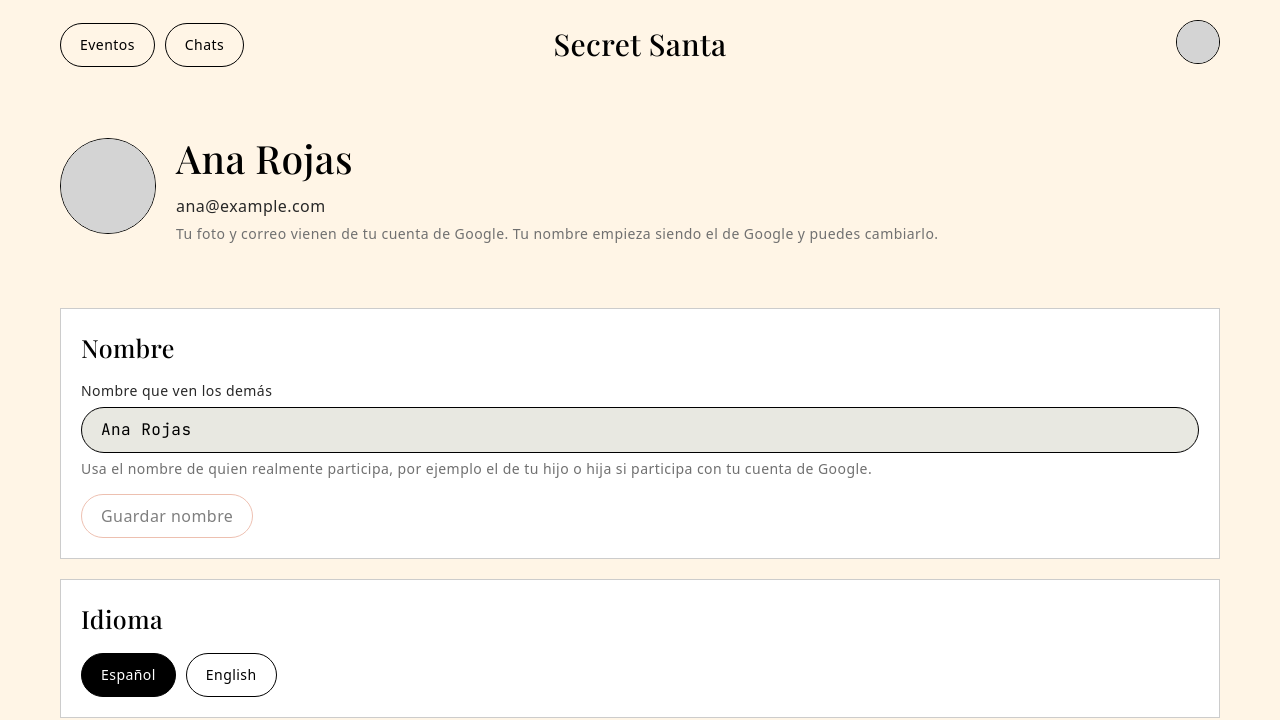
Scenario: ProfilePage › a failed save restores the previous language and says so
Expected: the heading "Ana Rojas" is shown, [176,132,353,184]
Click the button "English".
click(231, 674)  # box [186,652,277,696]
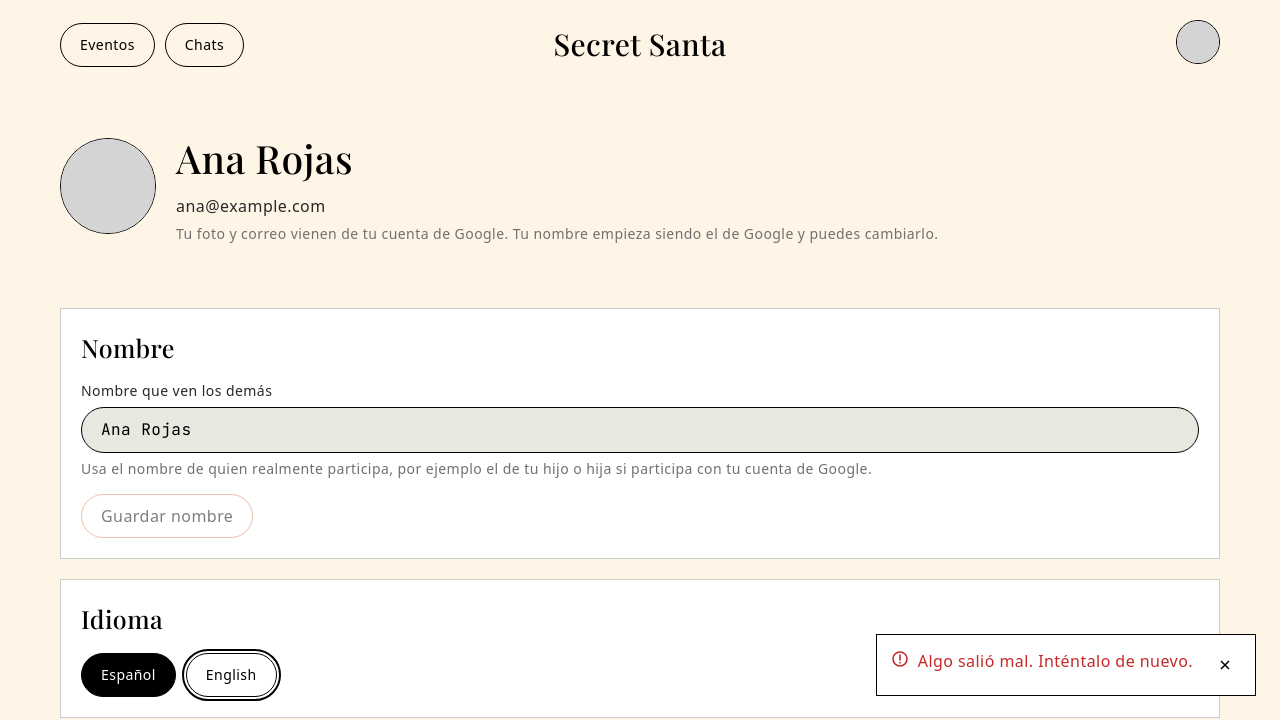
Expected: the text "Algo salió mal. Inténtalo de nuevo." is shown, [918,649,1193,673]
